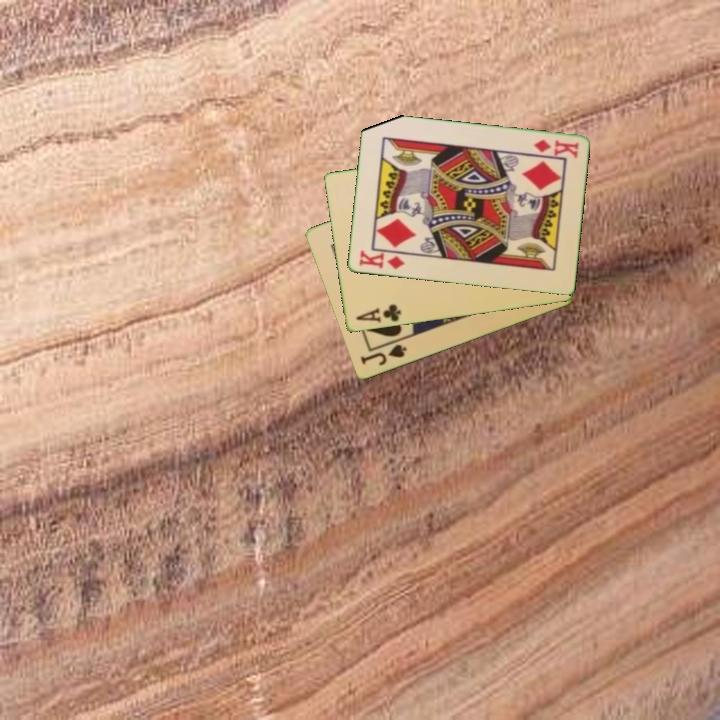Ac: (352, 301, 404, 326)
Js: (357, 341, 409, 369)
Kd: (356, 247, 407, 273), (530, 136, 581, 160)
